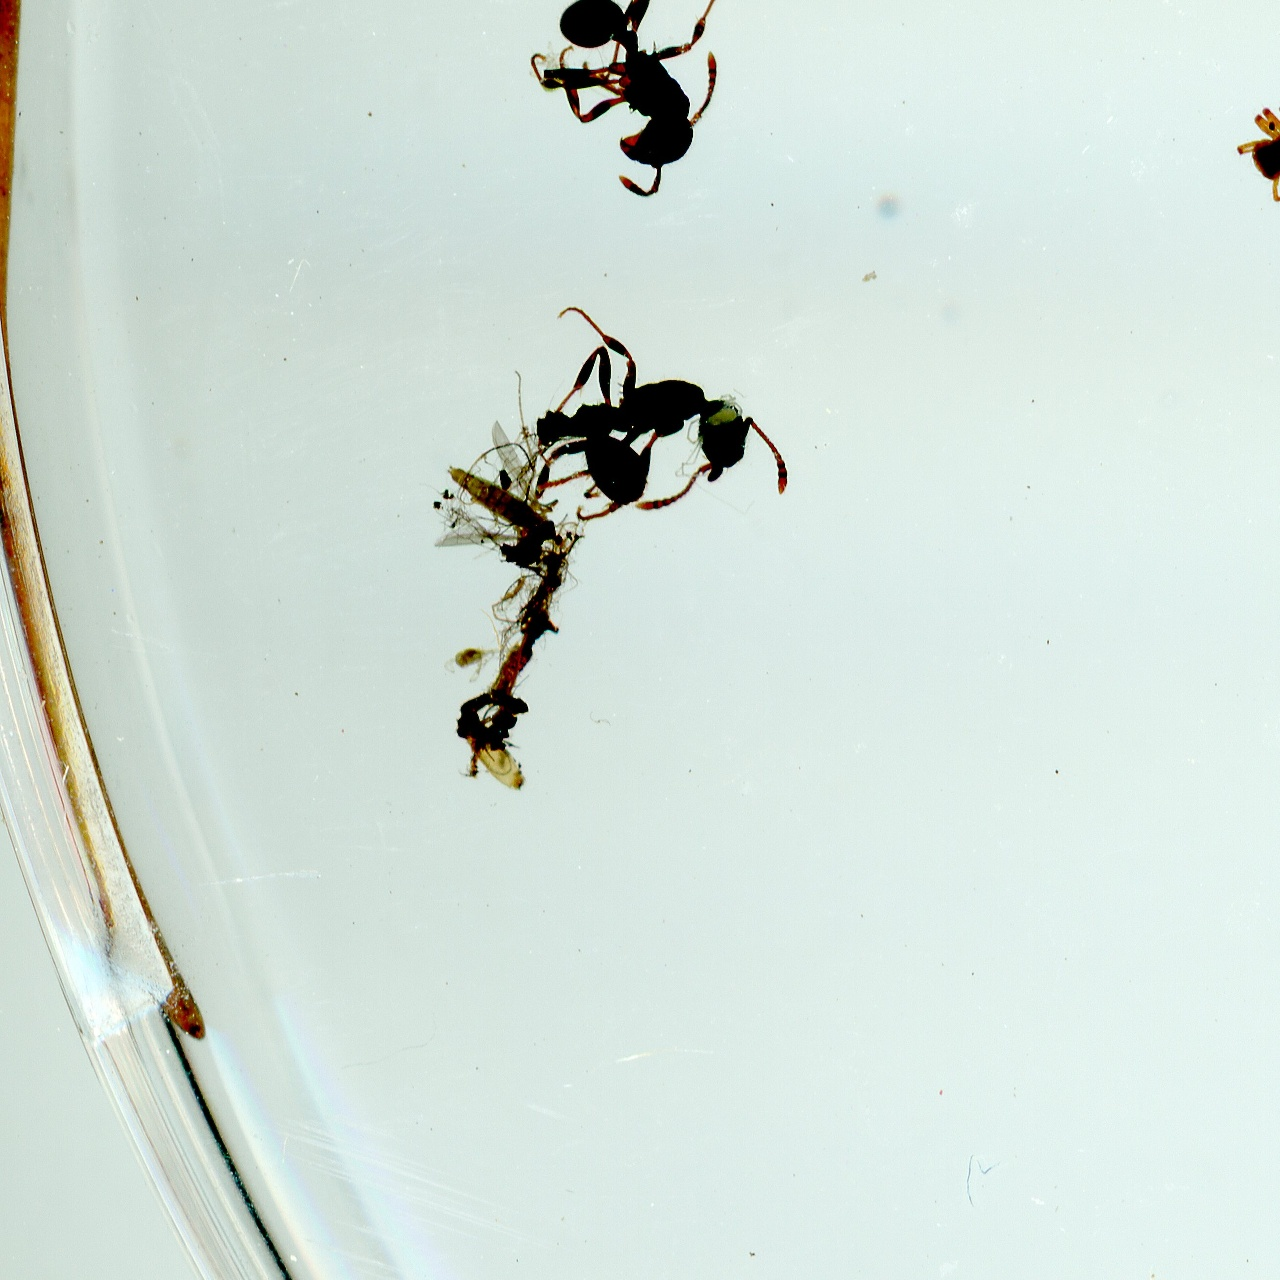arthropod: (530, 303, 796, 531), (525, 0, 734, 203), (431, 367, 569, 552), (674, 392, 759, 517), (1224, 90, 1280, 215), (441, 644, 502, 684)
